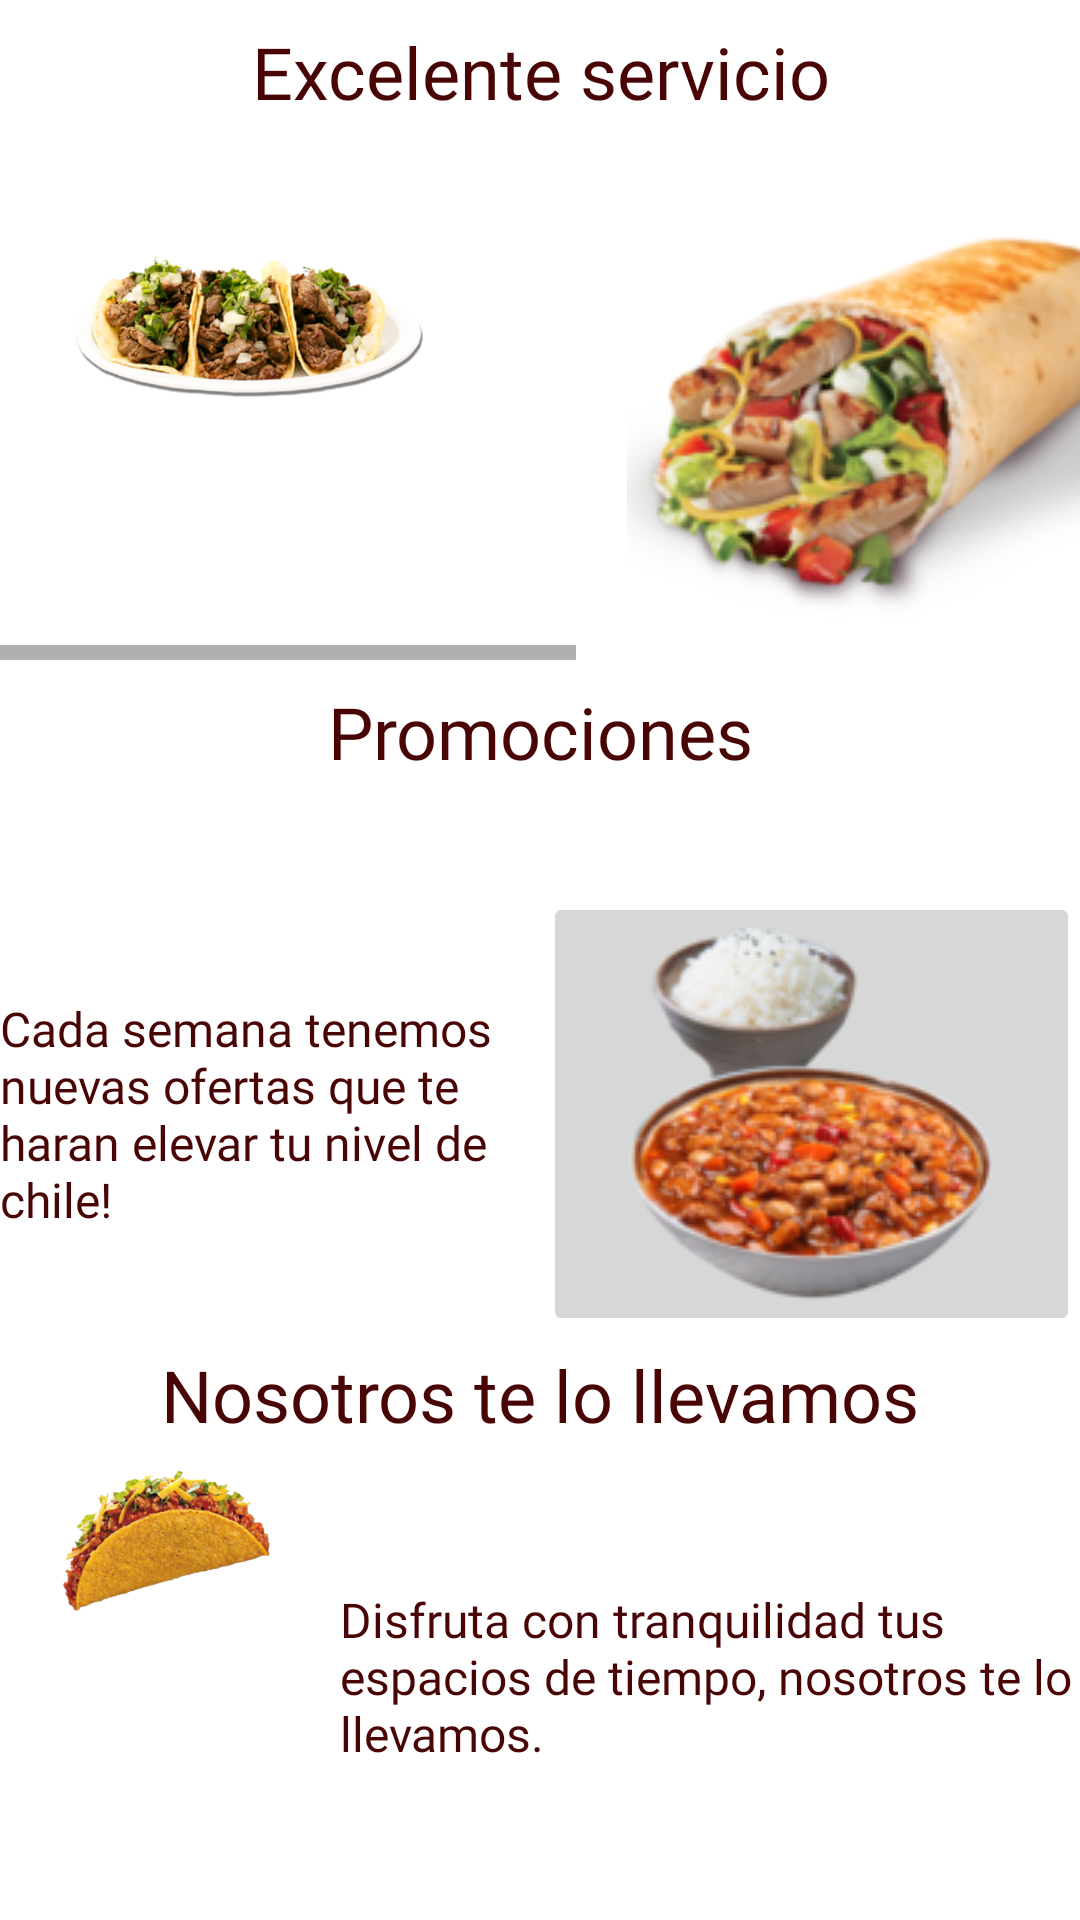

Icons on this 1080px x 1920px Android screen, each with the point to tap as (x,y):
alpastor: (251,327)
tacomolida: (166,1541)
